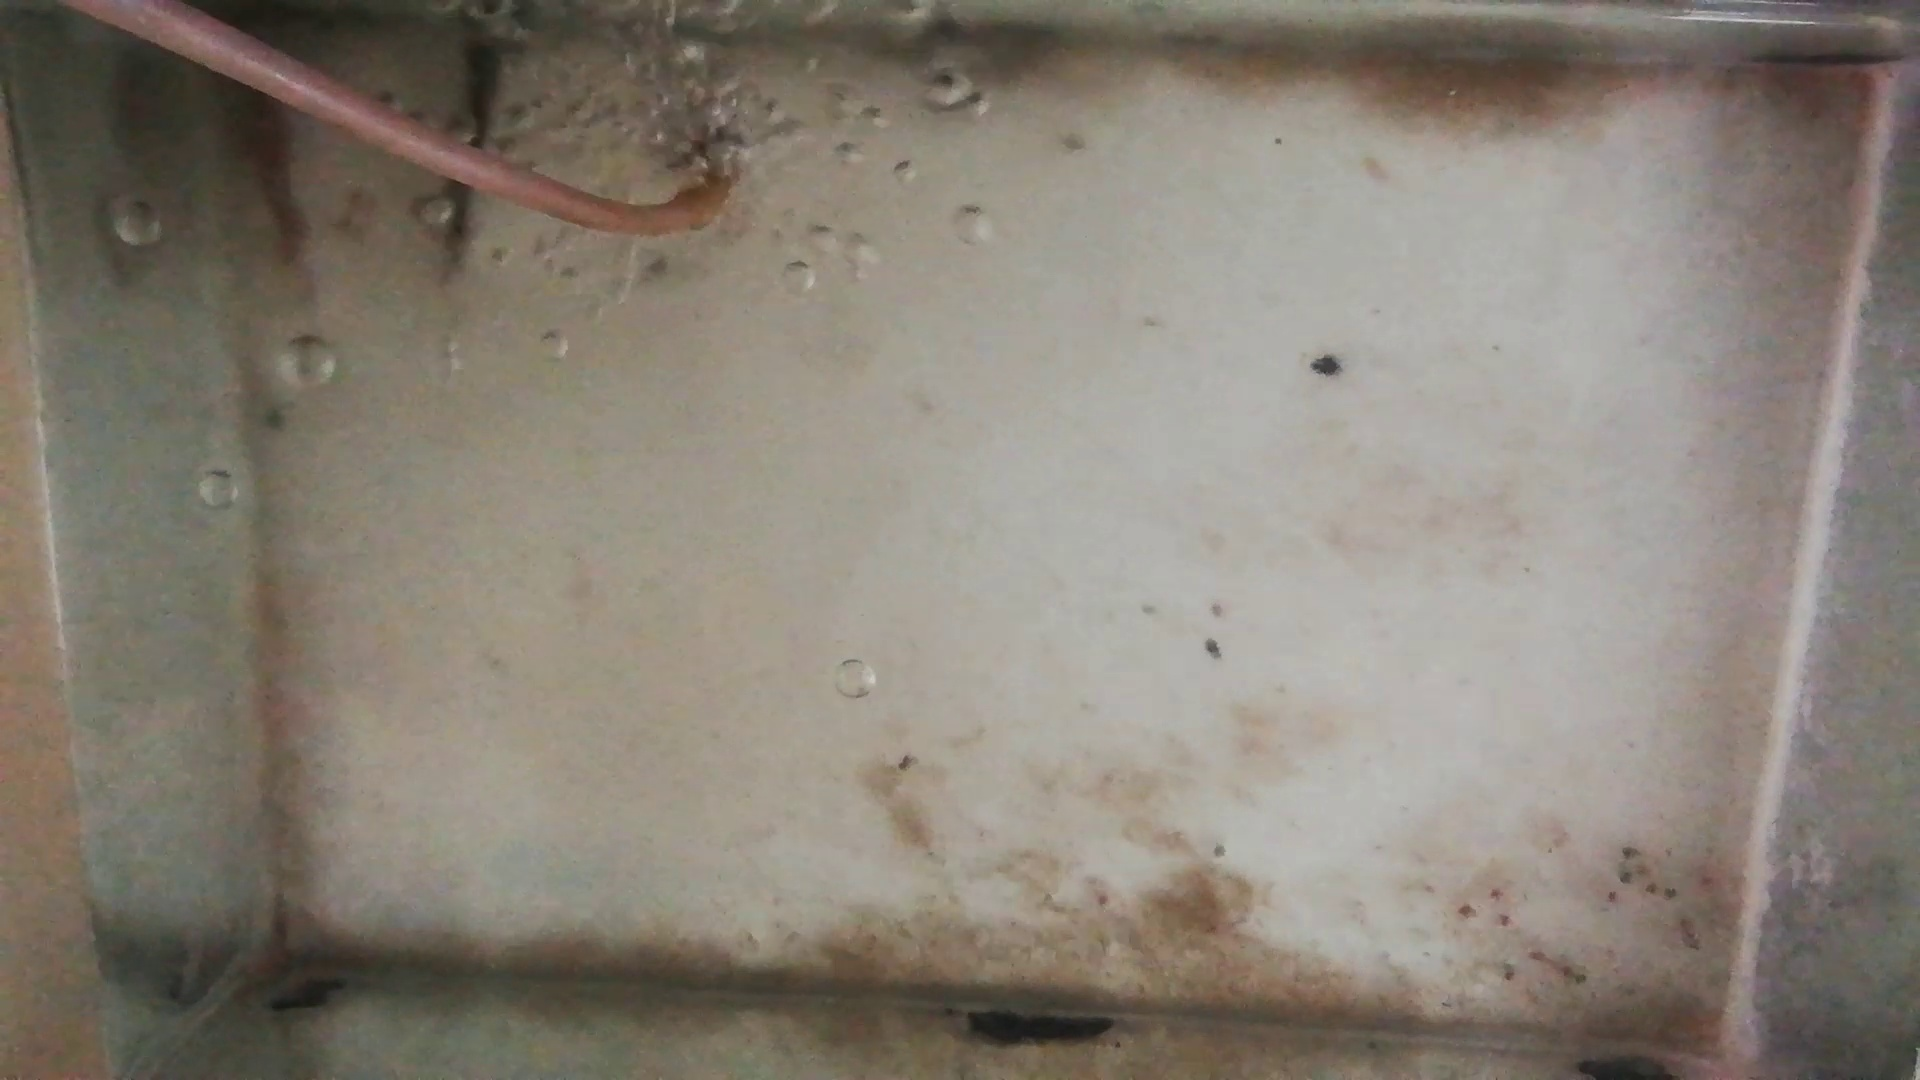fish: (443, 30, 505, 274), (255, 98, 309, 276)
